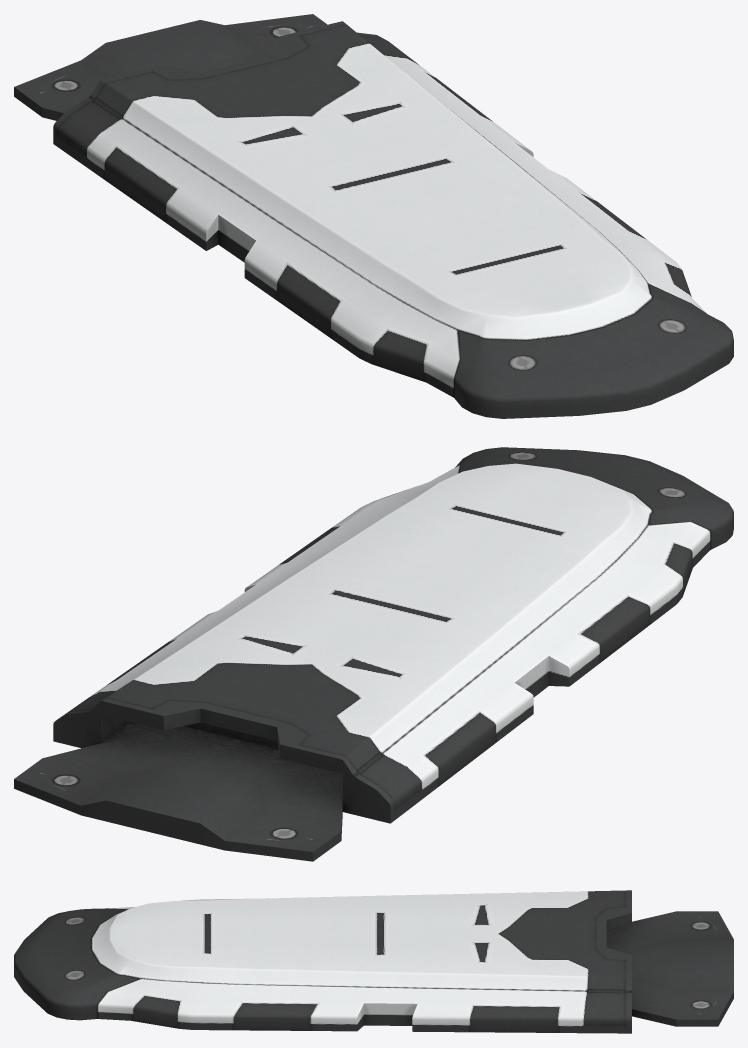
File: MeleeKnife01_2.FBX
The picture shows the model from 3 angles, top to bottom: view 1: azimuth 30°, elevation 25°; view 2: azimuth 150°, elevation 25°; view 3: azimuth 270°, elevation 25°; orthographic projection. The views are drawn at different scales.
Visible parts, largest first — view 1: MeleeKnife01_2; view 2: MeleeKnife01_2; view 3: MeleeKnife01_2.
Part boxes in pixels (x1,y1,x2,y2): MeleeKnife01_2: [14, 14, 733, 418]; MeleeKnife01_2: [14, 447, 733, 861]; MeleeKnife01_2: [14, 890, 733, 1033].
Size of what is drawn, in the model's own units: 0.1241 by 0.0184 by 0.3095.
